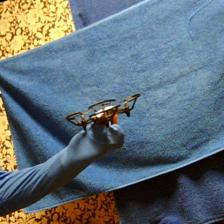drone: (65, 93, 141, 130)
